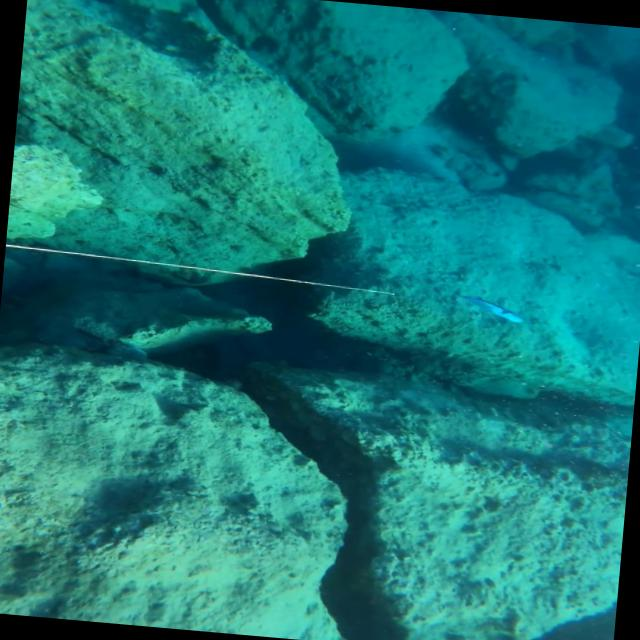Balon Baligi: (452, 290, 528, 322)
